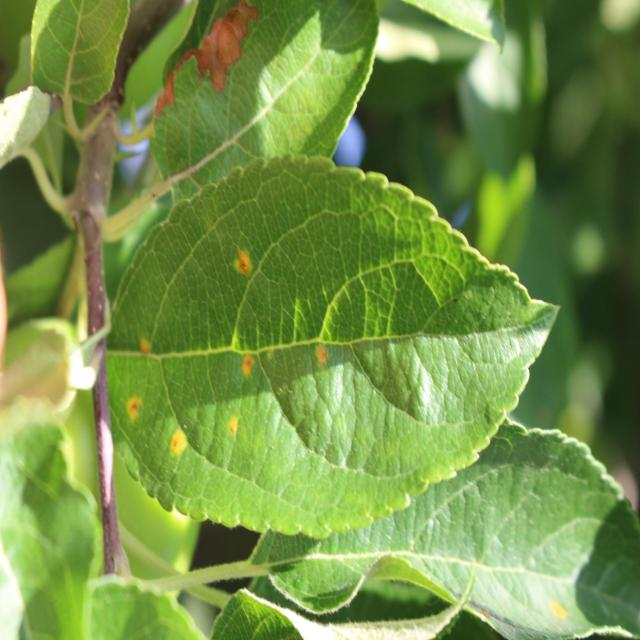Rust: (220, 229, 265, 294), (160, 412, 194, 474), (308, 325, 332, 384), (222, 393, 246, 444), (240, 332, 257, 402), (122, 384, 147, 429), (138, 324, 160, 375)
